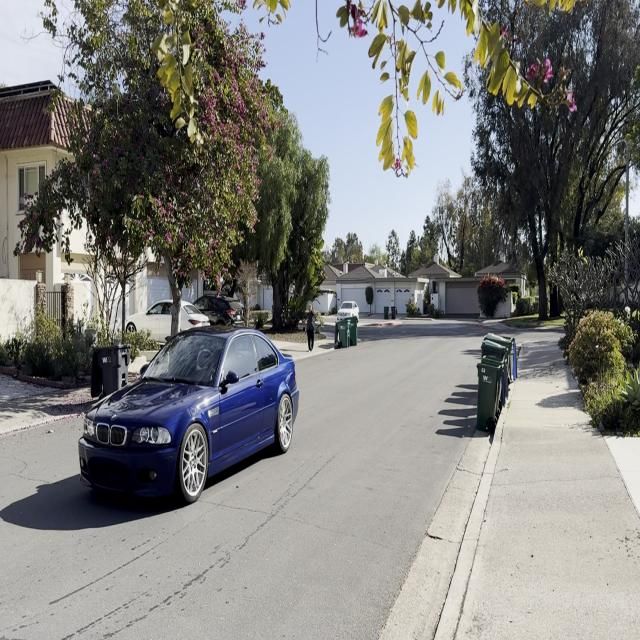Carbeetle: (55, 315, 315, 511)
